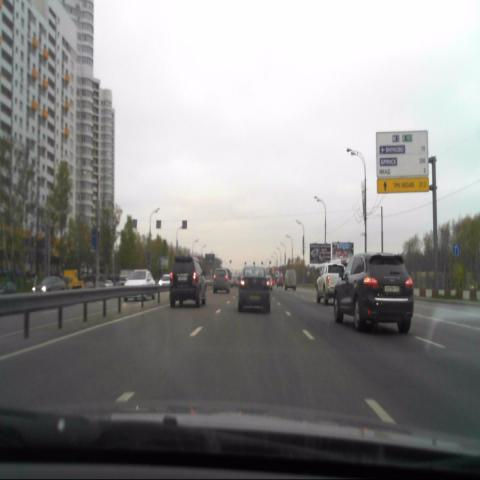5_15_5: (453, 243, 460, 257)
